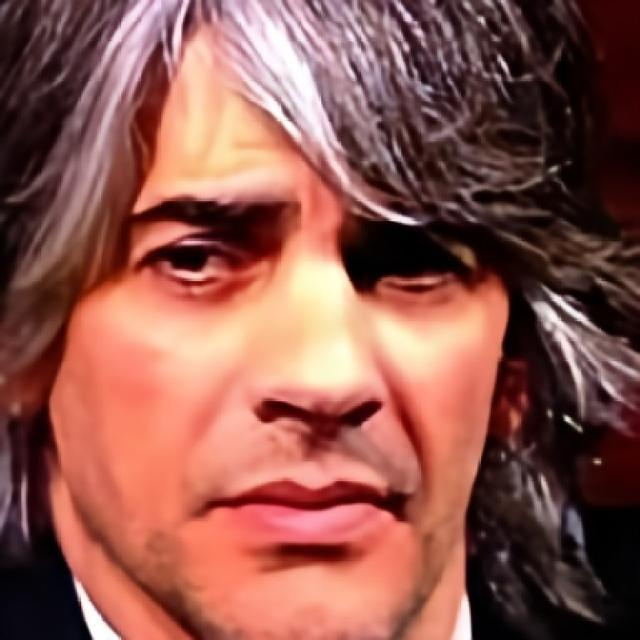sad: (46, 12, 510, 640)
